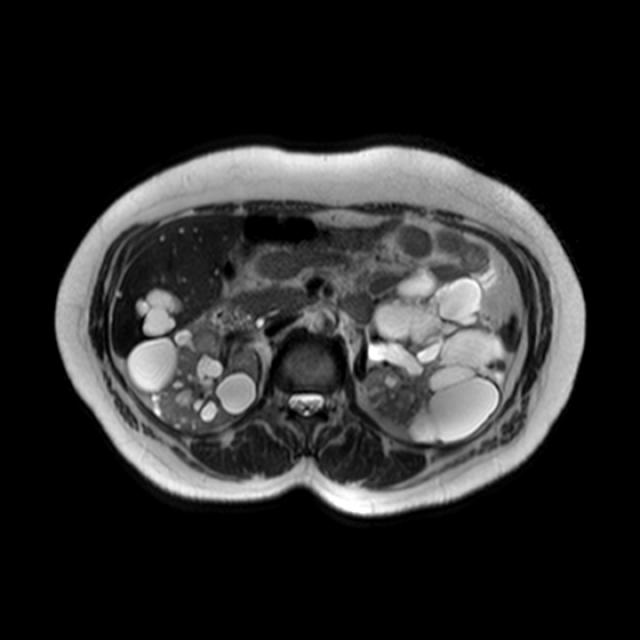sag: (126, 309, 261, 432)
sol: (357, 271, 511, 442)
